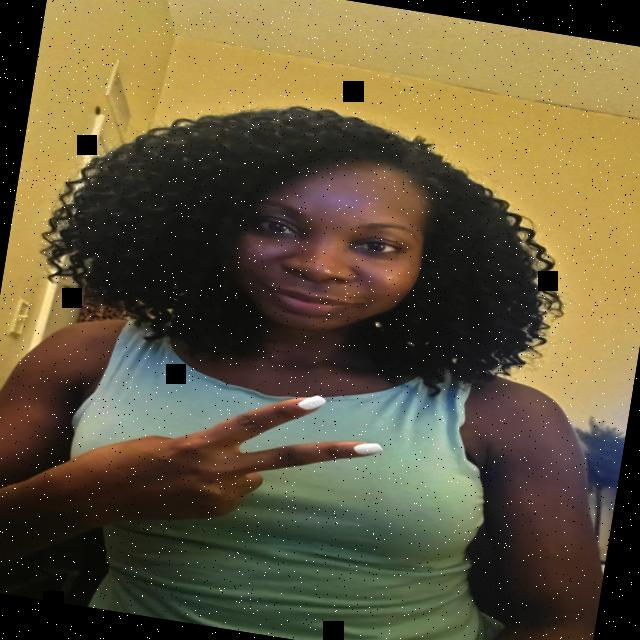Scissors: (82, 360, 390, 560)
